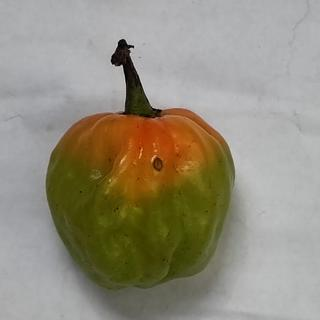Defect: (147, 152, 169, 177)
